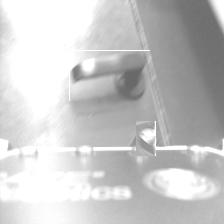Door Handle: (69, 50, 150, 101)
Lock: (132, 124, 160, 152)
